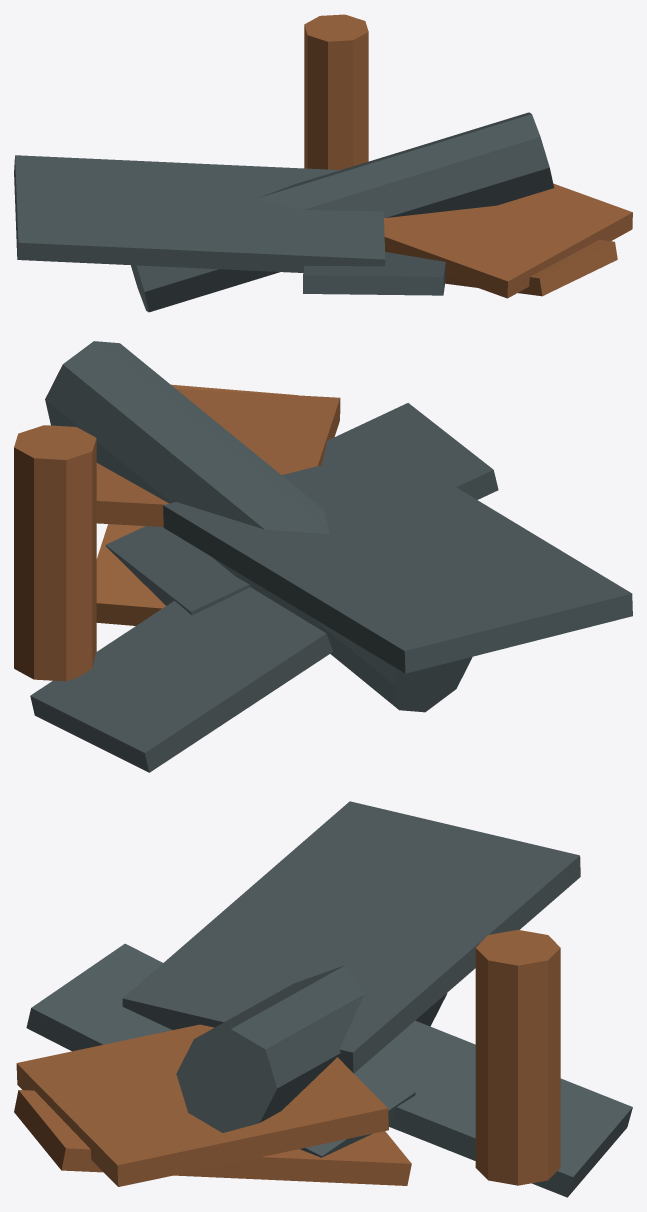
Rendered from ScrapPile.obj.
The picture shows the model from 3 angles, top to bottom: view 1: azimuth 30°, elevation 25°; view 2: azimuth 150°, elevation 25°; view 3: azimuth 270°, elevation 25°; orthographic projection. The views are drawn at different scales.
Visible parts, largest first — view 1: ScrapPile; view 2: ScrapPile; view 3: ScrapPile.
Part boxes in pixels (x1,y1,x2,y2): ScrapPile: [14, 14, 632, 312]; ScrapPile: [14, 341, 632, 772]; ScrapPile: [14, 801, 632, 1197].
Size of the model in its own units: 6.35 by 2.29 by 5.1.
